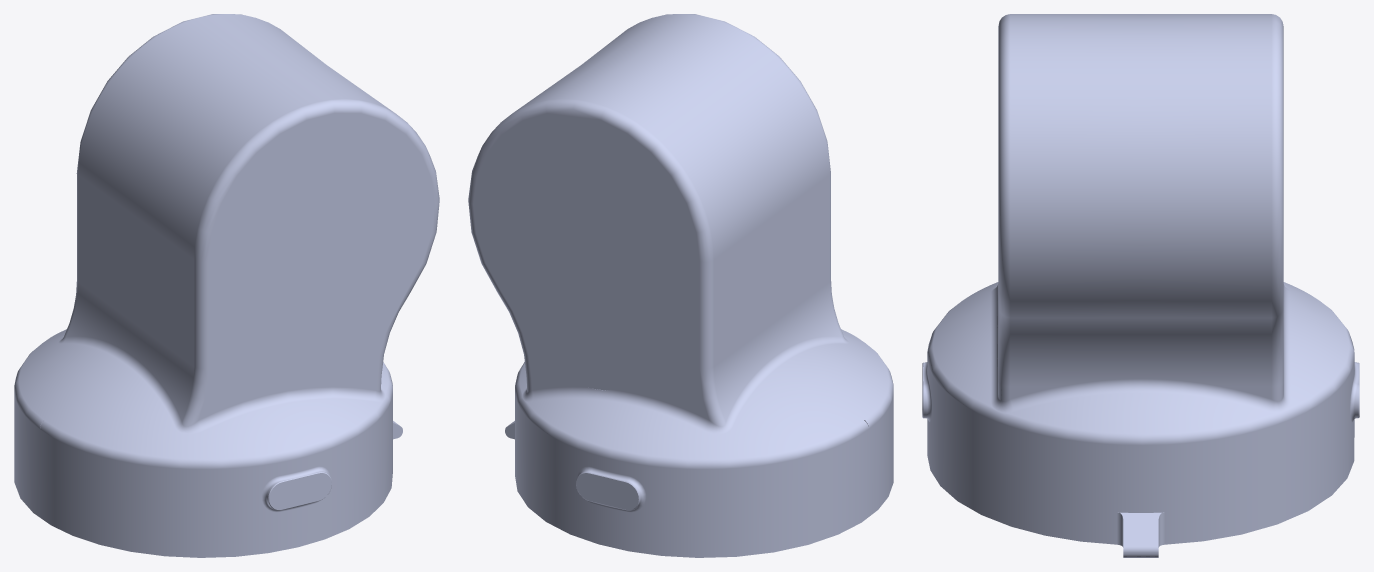
The picture shows the model from 3 angles, left to right: view 1: azimuth 30°, elevation 25°; view 2: azimuth 150°, elevation 25°; view 3: azimuth 270°, elevation 25°; orthographic projection. The views are drawn at different scales.
Parts seen in each view (by area): view 1: a9294a5c-8a9c-4ae2-b366-8560b92c7def; view 2: a9294a5c-8a9c-4ae2-b366-8560b92c7def; view 3: a9294a5c-8a9c-4ae2-b366-8560b92c7def.
Boxes of the visible parts, left/top/right/bottom form: a9294a5c-8a9c-4ae2-b366-8560b92c7def: left=14, top=14, right=439, bottom=557; a9294a5c-8a9c-4ae2-b366-8560b92c7def: left=468, top=14, right=893, bottom=557; a9294a5c-8a9c-4ae2-b366-8560b92c7def: left=922, top=14, right=1359, bottom=557.
Size of the model in its own units: 0.195 by 0.184 by 0.212.
